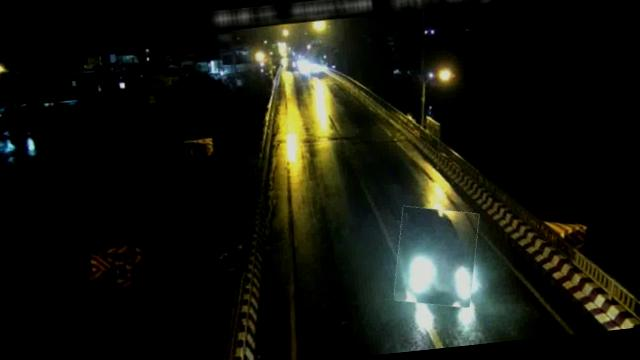Car: (389, 202, 484, 312)
